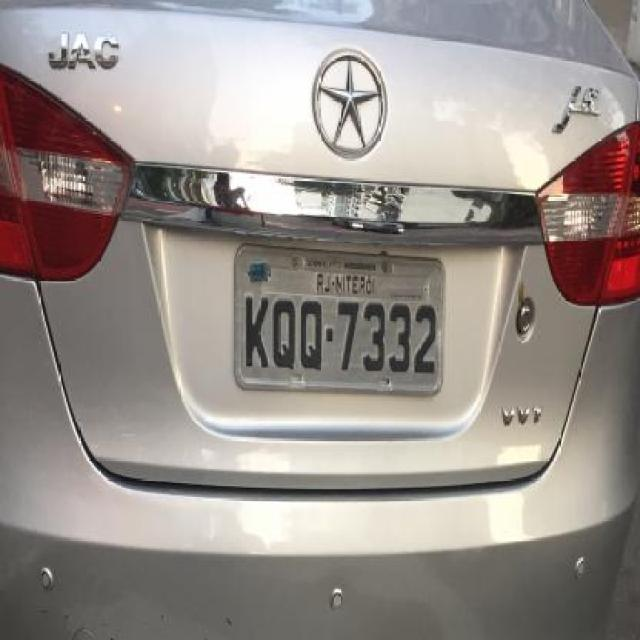old_plate: (226, 234, 451, 400)
